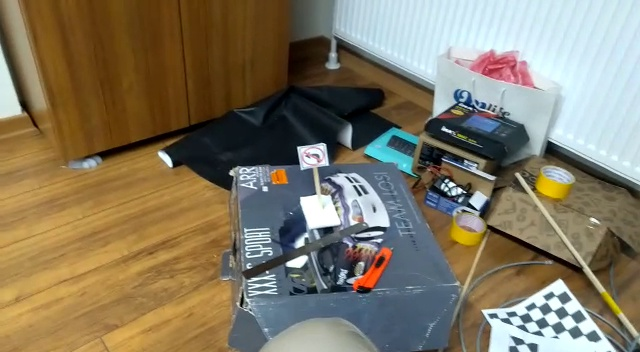sola_donulmez: (300, 142, 326, 166)
